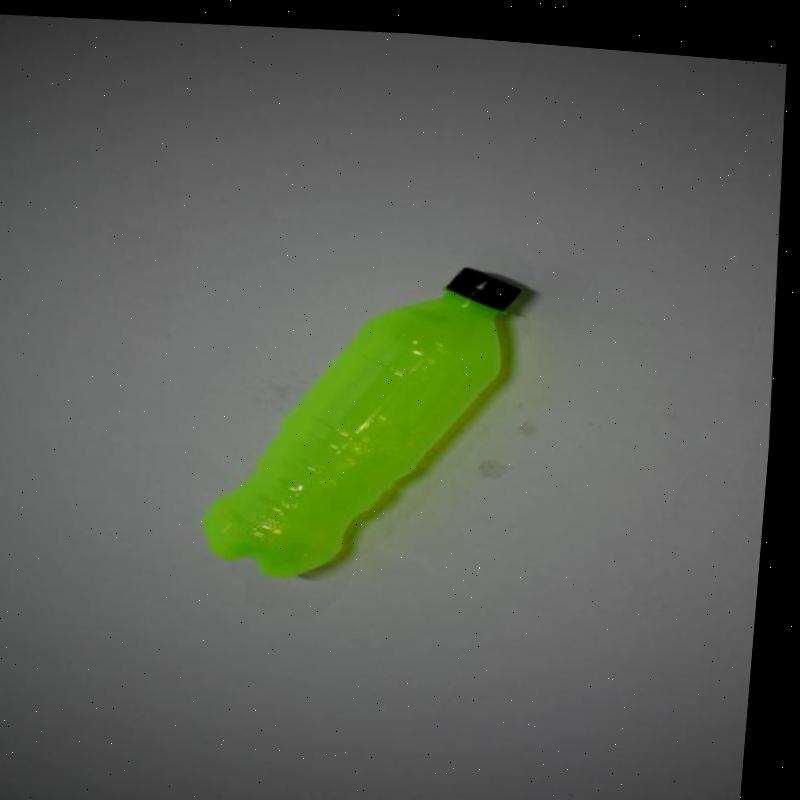botella: (196, 241, 533, 591)
